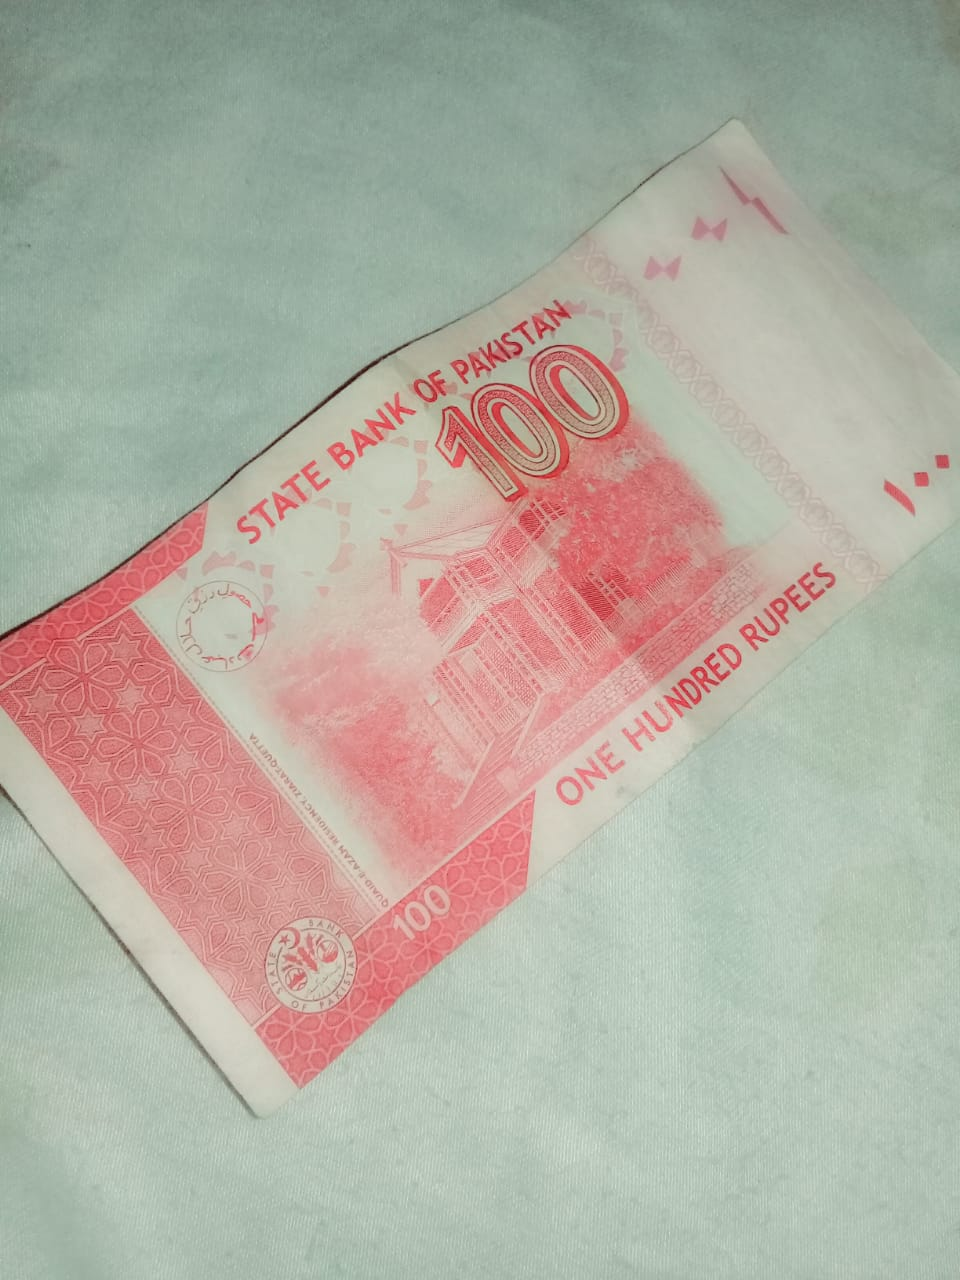100 rupee: (9, 123, 959, 1127)
